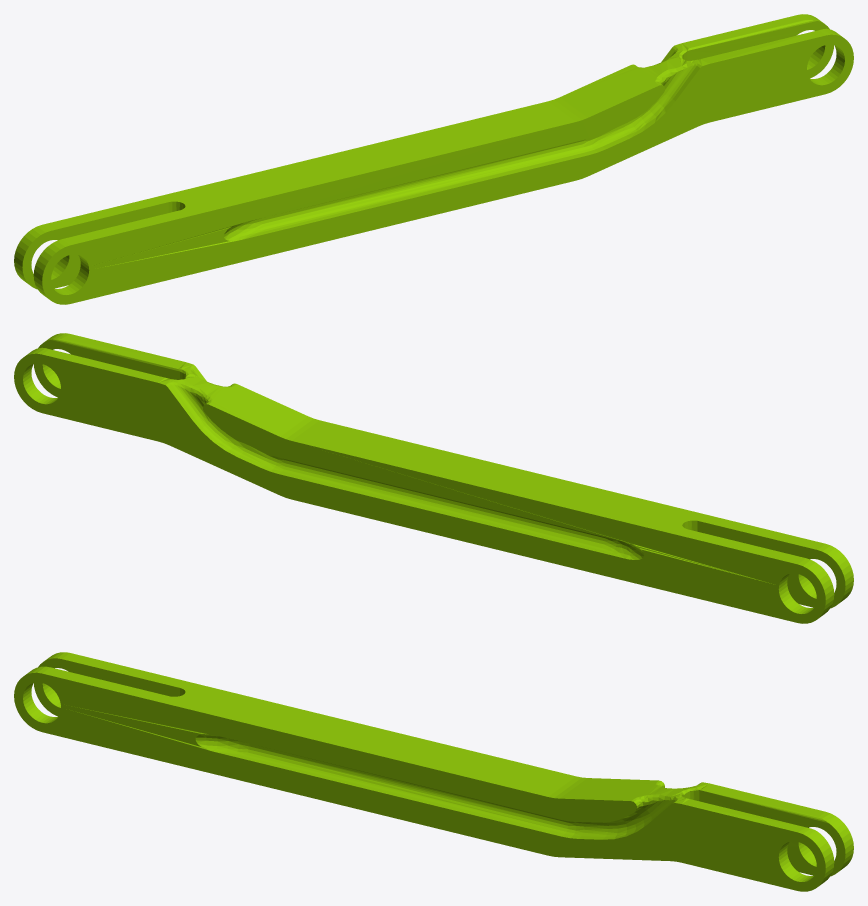
Rendered from Tilt Middle Linkage.OBJ.
3 views of the same model, one above another, from view 1: azimuth 30°, elevation 25°; view 2: azimuth 150°, elevation 25°; view 3: azimuth 330°, elevation 25° (orthographic).
Parts seen in each view (by area): view 1: /ambf/env/Tilt_Middle_Linkage_Tilt_Middle_Linkage; view 2: /ambf/env/Tilt_Middle_Linkage_Tilt_Middle_Linkage; view 3: /ambf/env/Tilt_Middle_Linkage_Tilt_Middle_Linkage.
Boxes of the visible parts, left/top/right/bottom form: /ambf/env/Tilt_Middle_Linkage_Tilt_Middle_Linkage: left=14, top=14, right=853, bottom=304; /ambf/env/Tilt_Middle_Linkage_Tilt_Middle_Linkage: left=14, top=333, right=853, bottom=623; /ambf/env/Tilt_Middle_Linkage_Tilt_Middle_Linkage: left=14, top=652, right=853, bottom=891.
Size of the model in its own units: 0.1665 by 0.0165 by 0.01.
